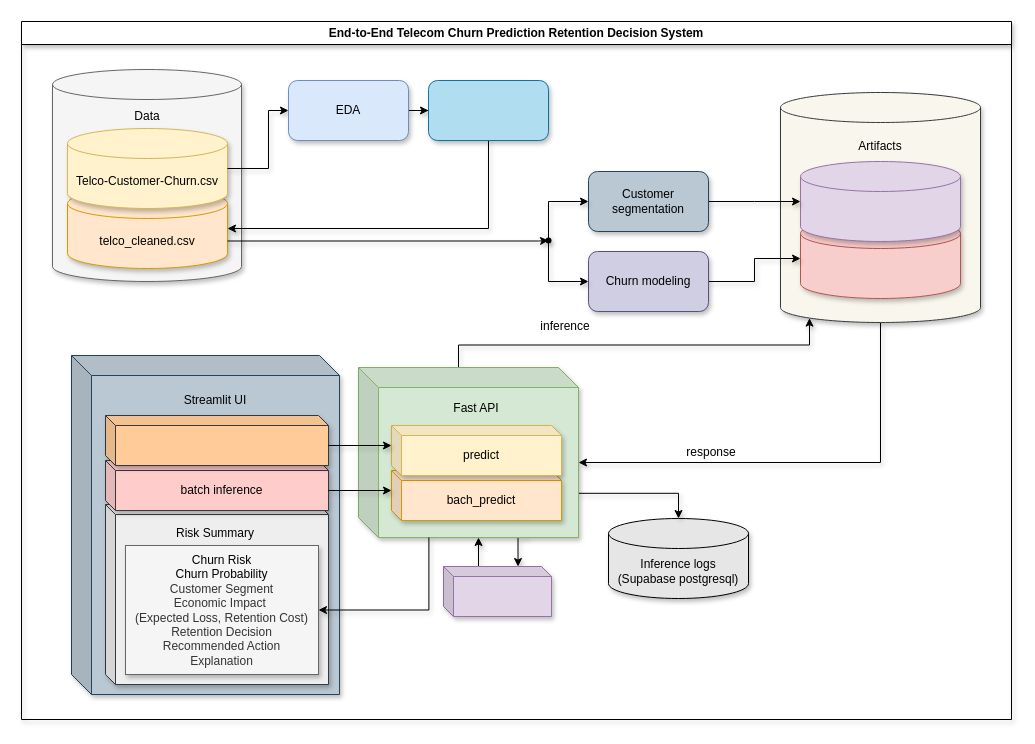
Some shapes in this 1035 by 744 pixel diagram are drawn without their labels. The shapes that lost their labels are listed below. From the top down, each one's centre as x and y in pixels, then its label:
the point at 489,112: Deterministic preprocessing
the point at 881,202: cluster_model.joblib
the point at 881,260: churn_model.joblib
the point at 217,441: Real time inference
the point at 498,593: Economic Decision Engine
